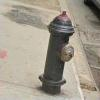a fire hydrant: (39, 12, 75, 90)
